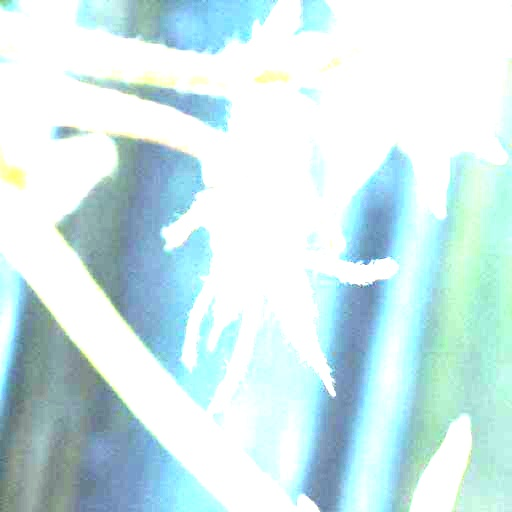Gray Mold: (161, 100, 399, 416)
